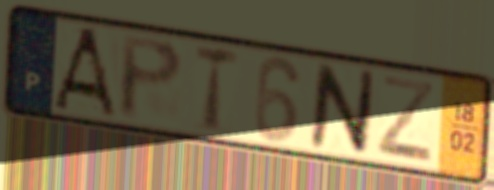6: (251, 54, 307, 146)
A: (49, 24, 120, 122)
N: (306, 60, 378, 159)
P: (118, 32, 186, 124)
T: (191, 41, 242, 136)
Z: (374, 72, 437, 166)
